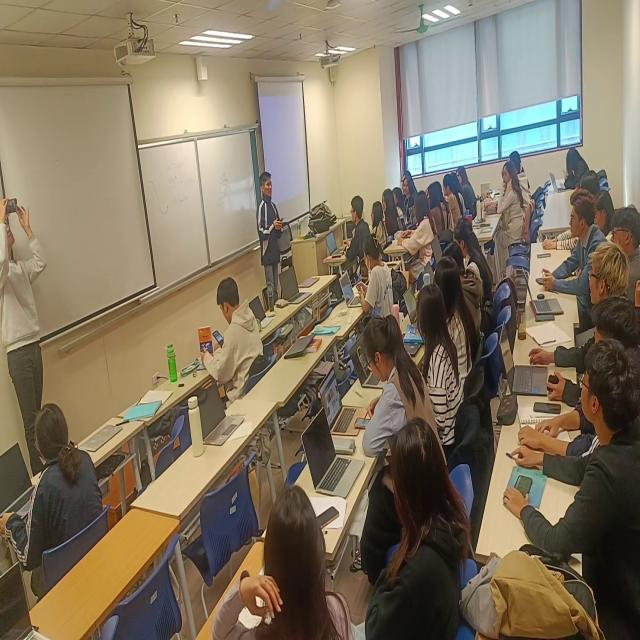raise_head: (508, 322, 640, 640), (358, 417, 480, 635), (212, 480, 366, 640), (411, 284, 468, 442), (435, 255, 478, 375), (582, 233, 636, 313), (584, 294, 640, 367), (495, 159, 530, 257), (607, 204, 640, 307), (342, 195, 376, 266), (456, 167, 479, 217), (370, 200, 391, 253), (450, 172, 469, 227), (381, 189, 400, 239), (392, 186, 409, 230), (402, 176, 417, 219), (403, 171, 413, 183)
stand: (1, 196, 53, 483), (255, 168, 289, 318)
using_computer: (1, 394, 106, 595)
using_phone: (351, 312, 448, 476), (200, 270, 266, 408), (563, 145, 593, 198), (578, 170, 601, 199), (575, 180, 582, 195)
